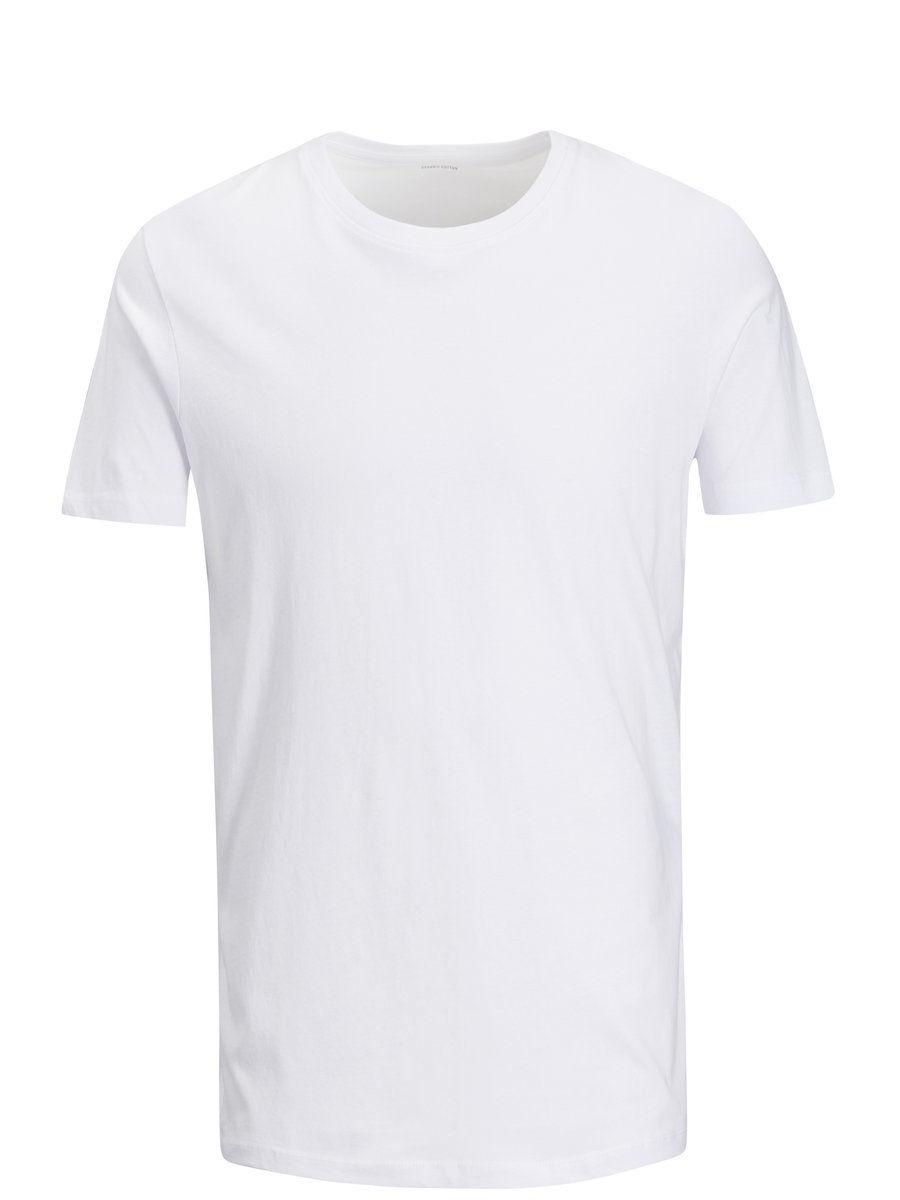teeshirt: (80, 113, 872, 1174)
